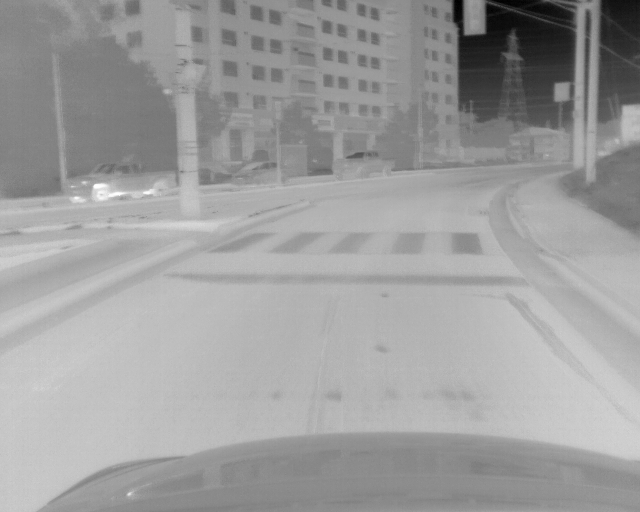car: (68, 159, 178, 202), (330, 149, 394, 180), (233, 162, 287, 188)
